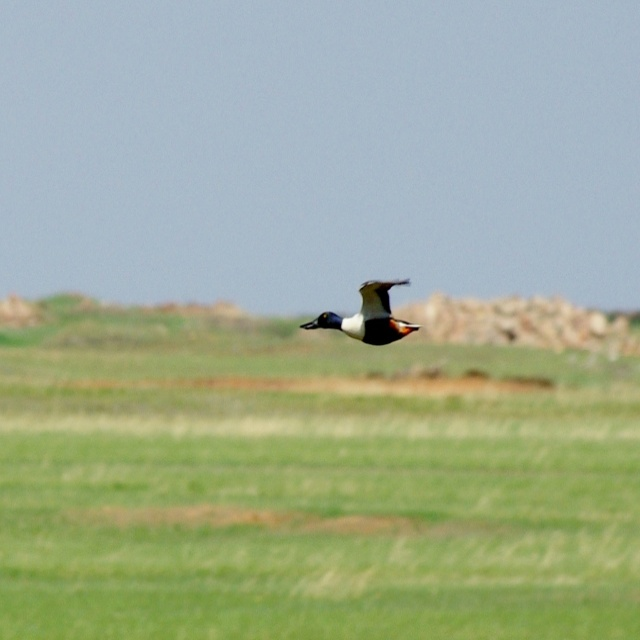Duck: (311, 273, 429, 360)
